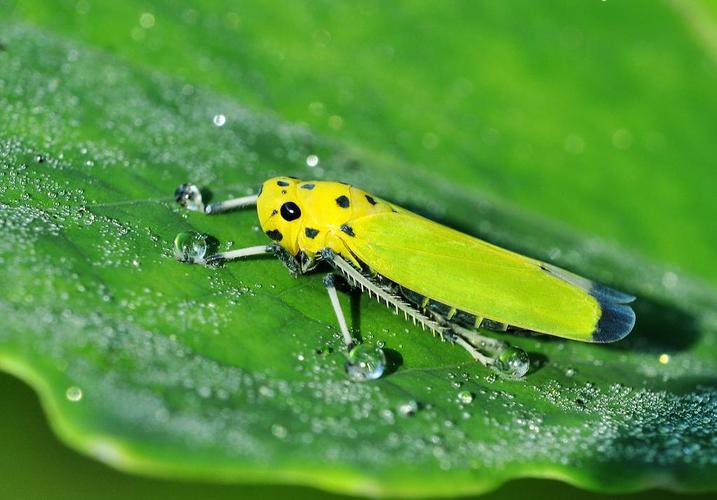Cicadellidae: (205, 177, 635, 359)
